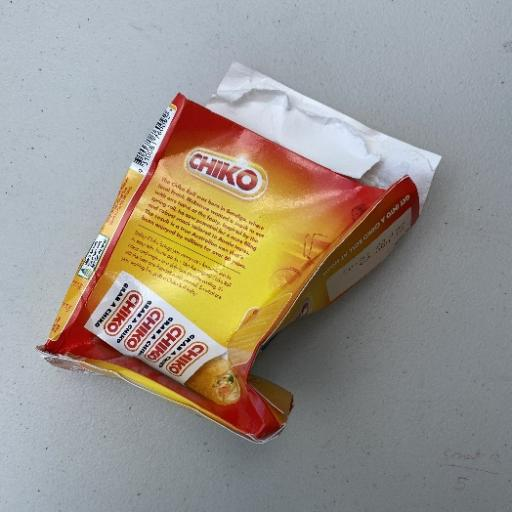Cardboard: (37, 89, 422, 444)
